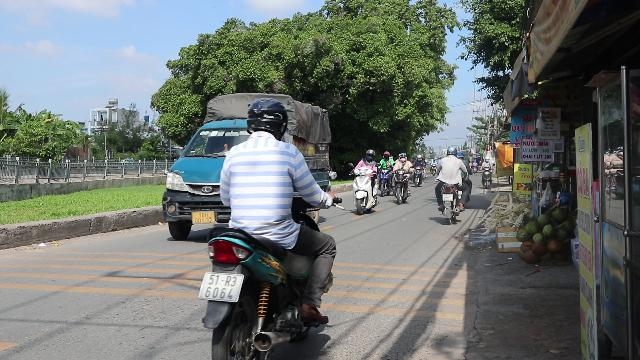helmet: (243, 98, 289, 140)
licenseplate: (198, 272, 245, 302)
motorcyclist: (196, 96, 340, 356)
